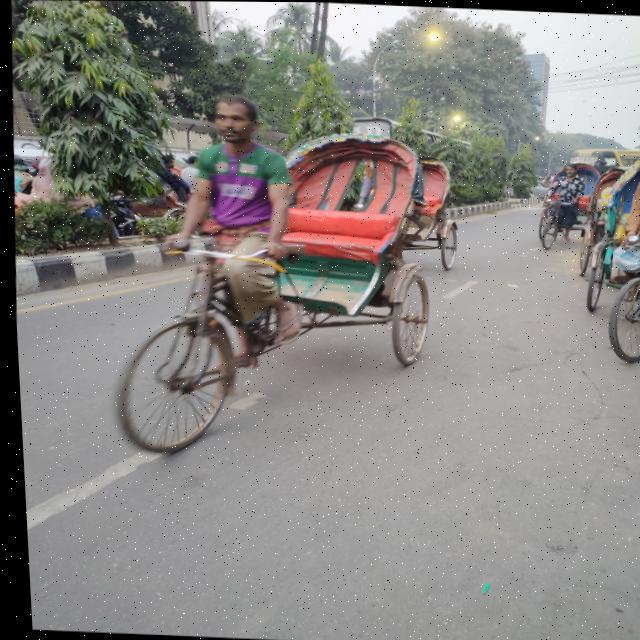rikshaw: (78, 84, 451, 514)
